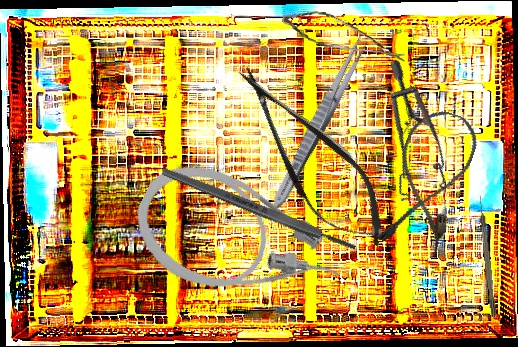Cannula: (118, 143, 358, 343), (373, 102, 484, 260)
Dressing Forceps: (267, 32, 372, 213)
Hook Surgical: (477, 195, 497, 317)
Micro Scissor: (215, 48, 406, 266), (279, 7, 411, 63)
Scalpel Handle: (160, 165, 358, 254)
Speculum: (326, 56, 486, 220)
